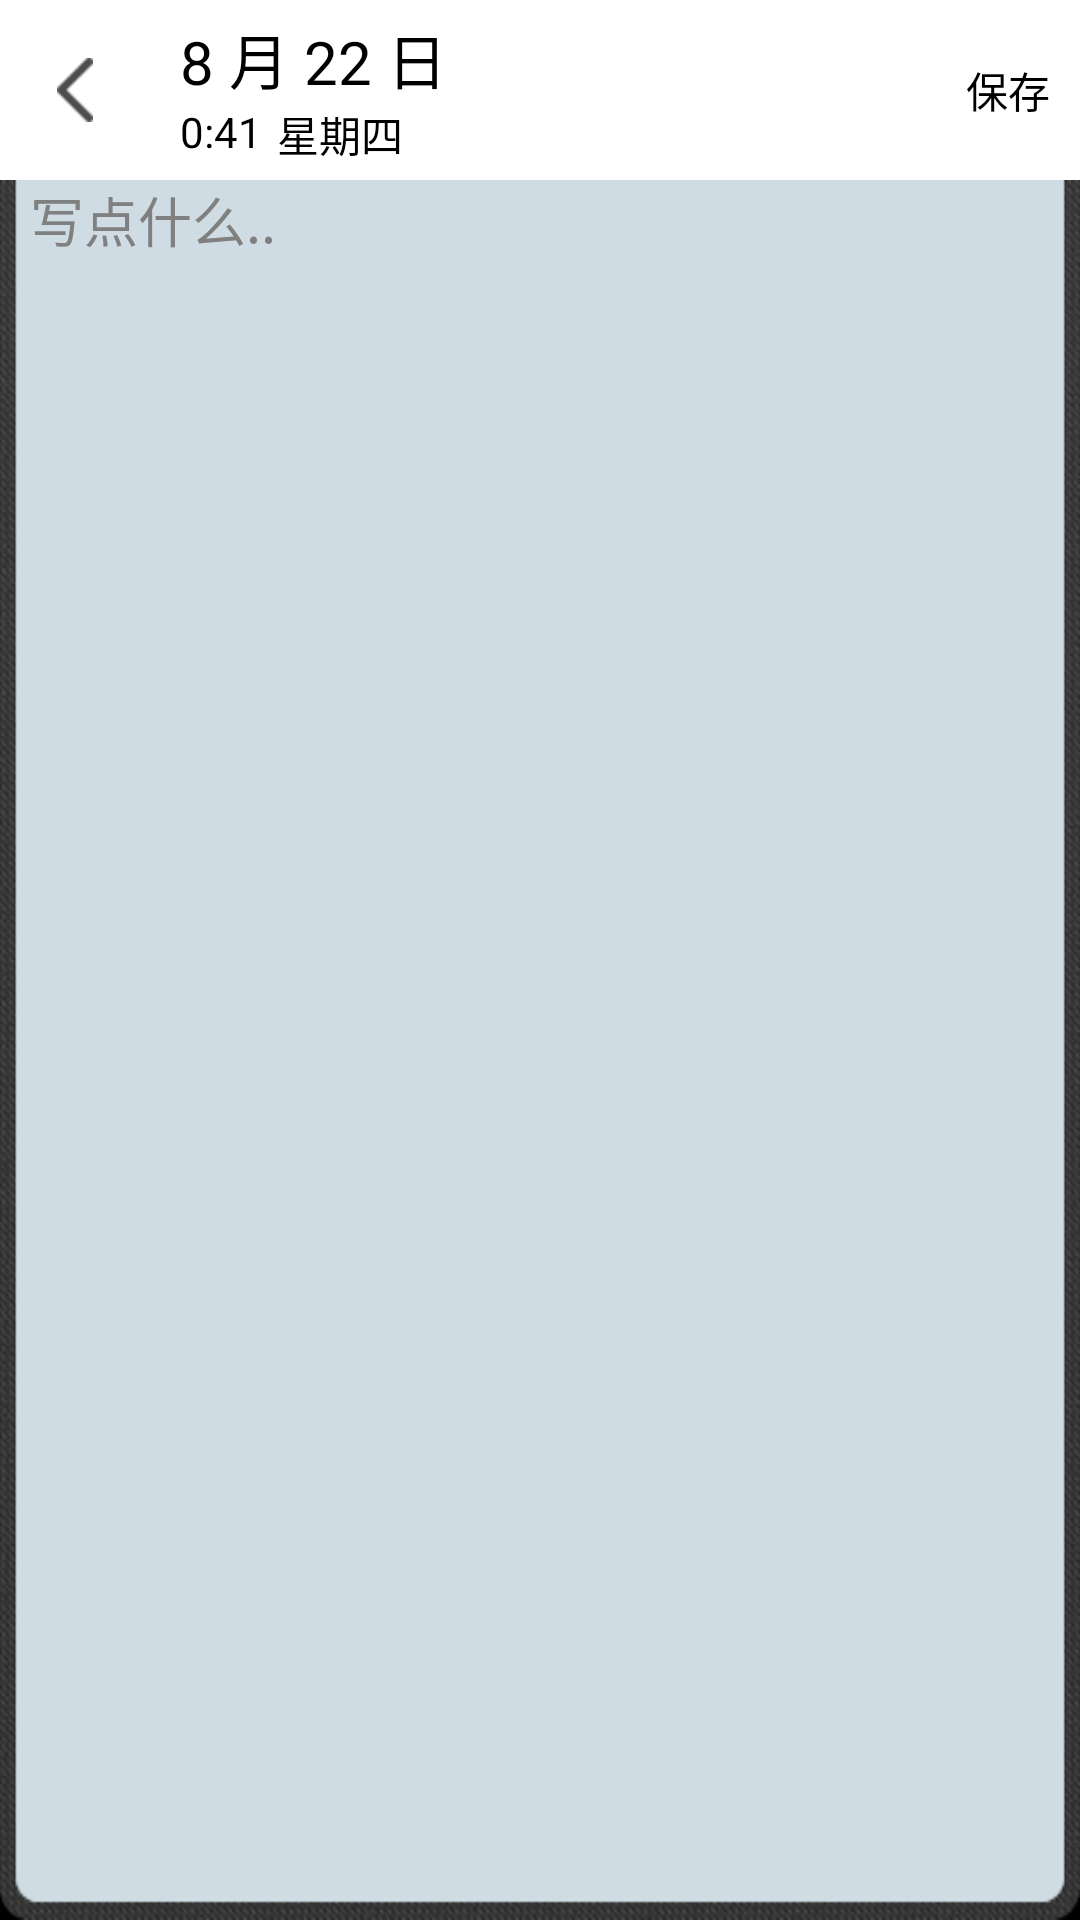

Where icons sit on this 1080px x 1920px app screen, as detection(x1, y1, x2, y2):
back note: detection(57, 58, 93, 122)
